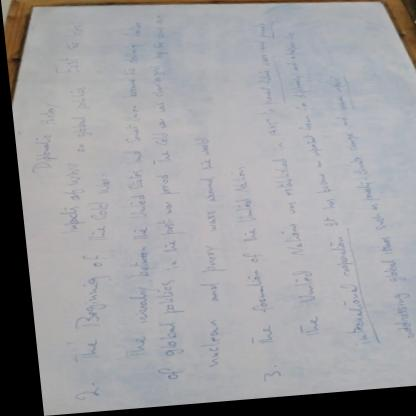Handwritten text: (259, 29, 374, 364), (314, 69, 415, 355), (232, 22, 320, 350), (128, 13, 186, 385), (173, 136, 226, 377), (108, 19, 145, 363), (60, 172, 114, 370), (216, 163, 271, 355), (40, 79, 94, 241), (13, 94, 64, 183), (42, 11, 99, 90)
